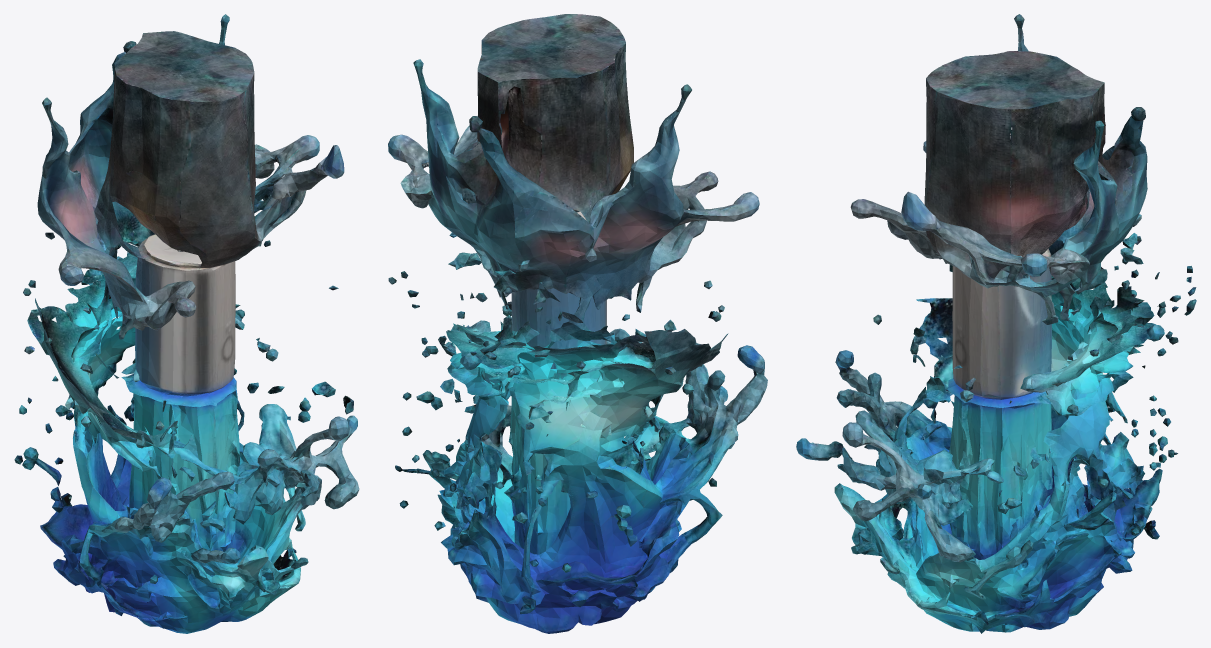
The model's file is result-transformed.glb.
3 renders of one model, left to right at view 1: azimuth 30°, elevation 25°; view 2: azimuth 150°, elevation 25°; view 3: azimuth 270°, elevation 25°, orthographic. The views are drawn at different scales.
Visible parts, largest first — view 1: geometry_0; view 2: geometry_0; view 3: geometry_0.
Part boxes in pixels (box(x1,y1,x2,y2)): geometry_0: box(14, 14, 359, 633); geometry_0: box(388, 14, 767, 633); geometry_0: box(796, 14, 1196, 633).
Bounding box in the file's own units: 0.5975 × 0.9996 × 0.6806.
Materials: 1 (1 with a texture image).
